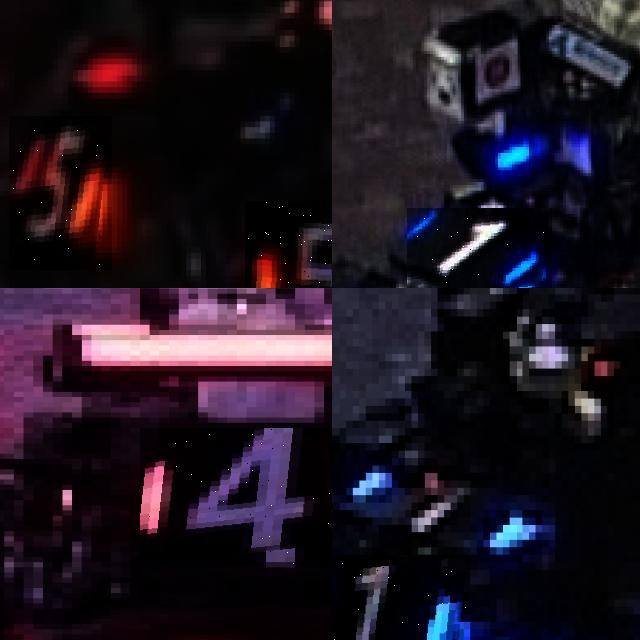B1: (332, 554, 470, 640), (407, 208, 551, 288)
R4: (140, 427, 332, 567)
R5: (9, 116, 112, 270), (245, 201, 332, 288)
